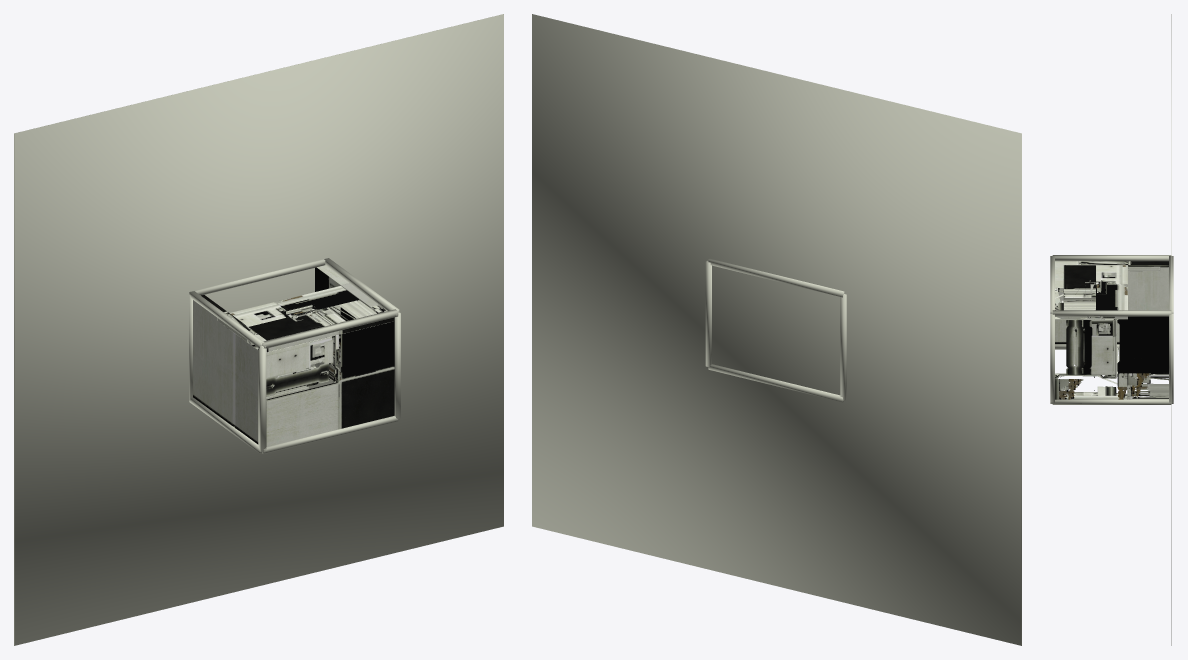
3 renders of one model, left to right at view 1: azimuth 30°, elevation 25°; view 2: azimuth 150°, elevation 25°; view 3: azimuth 270°, elevation 25°, orthographic. The views are drawn at different scales.
Bounding box in the file's own units: 2 × 2 × 0.52.
